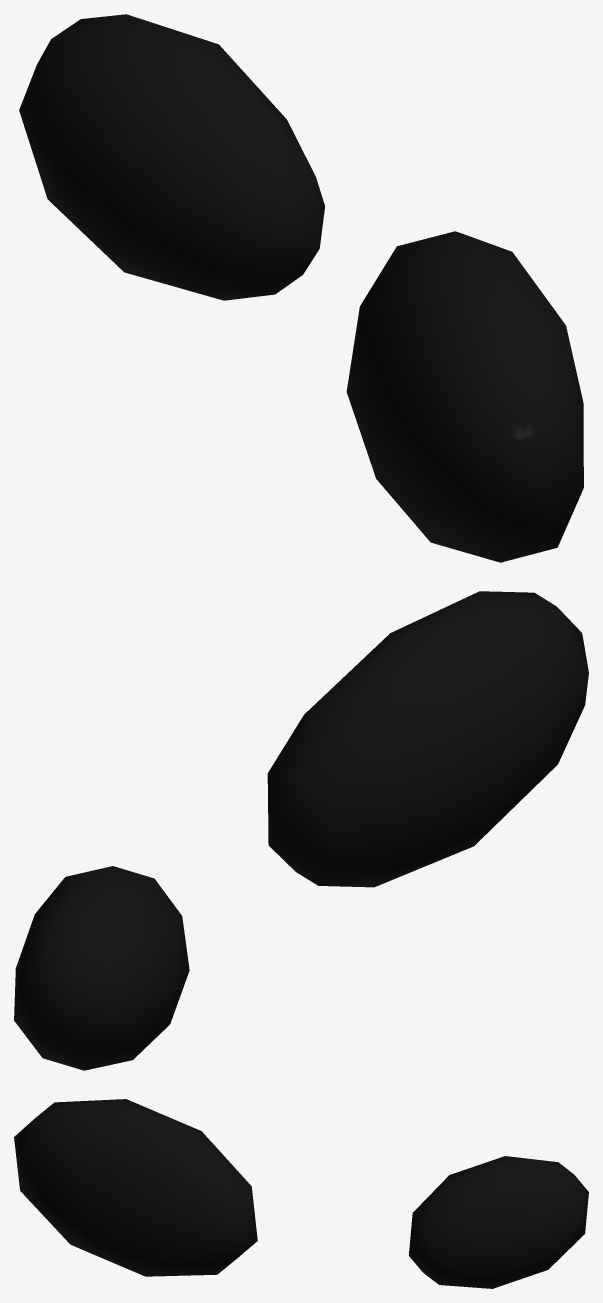
The model's file is AM_Eyes_Butor.fbx.
The picture shows the model from 3 angles, top to bottom: view 1: azimuth 30°, elevation 25°; view 2: azimuth 150°, elevation 25°; view 3: azimuth 270°, elevation 25°; orthographic projection. The views are drawn at different scales.
Visible parts, largest first — view 1: Eyes_Butor; view 2: Eyes_Butor; view 3: Eyes_Butor.
Part boxes in pixels (<box>): Eyes_Butor: <box>19,14,583,562</box>; Eyes_Butor: <box>14,591,588,1070</box>; Eyes_Butor: <box>14,1099,588,1288</box>.
Size of the model in its own units: 18.56 by 21.07 by 68.35.
